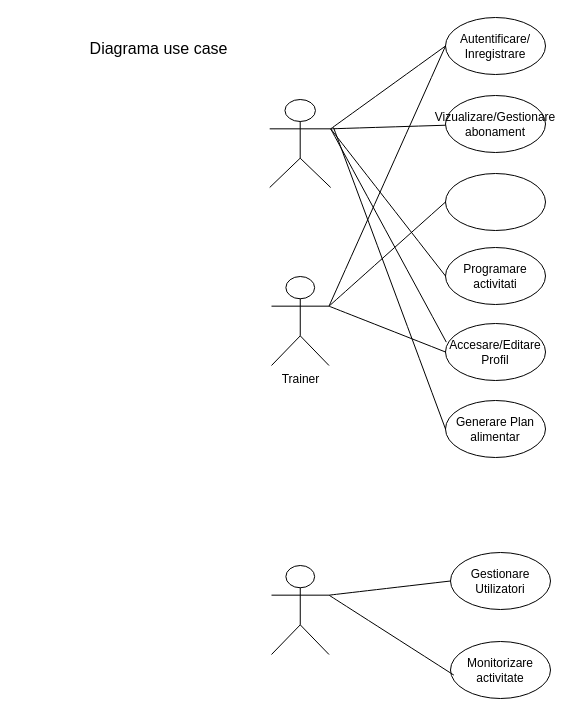
Image size: 573x716. Some labels were removed from this diagram. Here are the shapes that lost their labels. From the top down, the centre of each, then its label:
At point 300,143: "Client".
At point 495,201: "Vizualizare/Gestionare clienti".
At point 299,609: "Admin".
